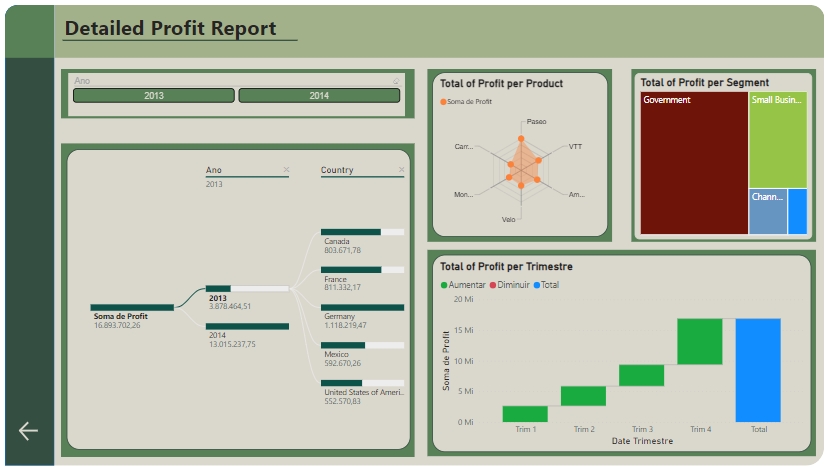

Layout of this report page (visuals, bound fields, positions):
{"tool":"powerbi","page":{"name":"Página 2","canvas":[1280,720],"ordinal":1},"visuals":[{"type":"shape","box":[0,0,1280,720],"z":0},{"type":"textbox","box":[87.3,7.1,407.1,75.7],"z":1000,"group":"g1"},{"type":"actionButton","box":[17.1,665.7,60,40],"z":2000},{"type":"shape","box":[89.7,38.3,367.1,32.9],"z":3000,"group":"g1"},{"type":"shape","box":[0,0,77.1,720],"z":4000},{"type":"shape","box":[0,0,77.1,82.9],"z":5000},{"type":"shape","box":[77.1,0,1202.9,82.9],"z":6000},{"type":"shape","box":[660,382.9,607.1,322.9],"z":7000},{"type":"shape","box":[87.1,100,552.9,77.1],"z":8000},{"type":"shape","box":[87.1,215.7,552.9,490],"z":9000},{"type":"shape","box":[660,100,288.6,270],"z":10000},{"type":"shape","box":[978.6,100,288.6,270],"z":11000},{"type":"decompositionTreeVisual","fields":{"Analyze":["Sum(financials.Profit)"],"ExplainBy":["financials.Date.Variation.Hierarquia de datas.Ano","financials.Country"]},"box":[96,225,537,470],"z":12000},{"type":"waterfallChart","title":"Total of Profit per Trimestre","fields":{"Y":["Sum(financials.Profit)"],"Category":["financials.Date.Variation.Hierarquia de datas.Trimestre"]},"box":[667,390,592.9,309],"z":13000},{"type":"treemap","title":"Total of Profit per Segment","fields":{"Values":["Sum(financials.Profit)"],"Group":["financials.Segment"]},"box":[984.3,105.7,277.1,260],"z":14000},{"type":"ChicletSlicer1448559807354","fields":{"Category":["financials.Date.Variation.Hierarquia de datas.Ano"]},"box":[98.6,105.7,525.7,67.1],"z":15000},{"type":"RadarChart1446119667547","title":"Total of Profit per Product","fields":{"Category":["financials.Product"],"Y":["Sum(financials.Profit)"]},"box":[667,105,275,258],"z":16000},{"type":"actionButton","box":[17.1,645.7,47.1,40],"z":17000},{"type":"group","id":"g1","title":"Grupo 1","box":[87.3,7.1,407.1,75.7],"z":17001}]}

Visuals, with their boxes in screenshot pixels (x1, y1, x2, y2), scaled from the page's 1280x720 canvas onto the 827x469 screenshot:
shape: (0, 0, 826, 468)
textbox: (56, 5, 319, 54)
actionButton: (11, 434, 50, 460)
shape: (58, 25, 295, 46)
shape: (0, 0, 50, 468)
shape: (0, 0, 50, 54)
shape: (50, 0, 826, 54)
shape: (426, 249, 819, 460)
shape: (56, 65, 414, 115)
shape: (56, 141, 414, 460)
shape: (426, 65, 613, 241)
shape: (632, 65, 819, 241)
decompositionTreeVisual - Sum(financials.Profit) x financials.Date.Variation.Hierarquia de datas.Ano: (62, 147, 409, 453)
"Total of Profit per Trimestre" waterfallChart: (431, 254, 814, 455)
"Total of Profit per Segment" treemap: (636, 69, 815, 238)
ChicletSlicer1448559807354 - financials.Date.Variation.Hierarquia de datas.Ano: (64, 69, 403, 113)
"Total of Profit per Product" RadarChart1446119667547: (431, 68, 609, 236)
actionButton: (11, 421, 41, 447)
"Grupo 1" group: (56, 5, 319, 54)
